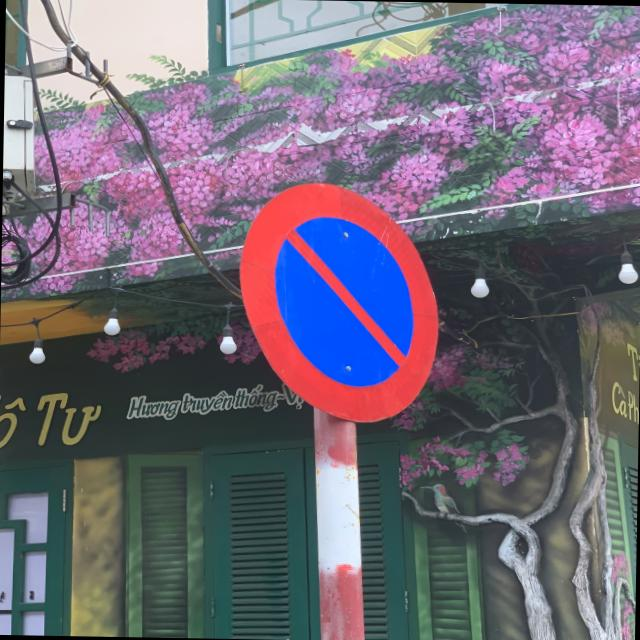Cam_Dau_Xe: (236, 180, 442, 422)
